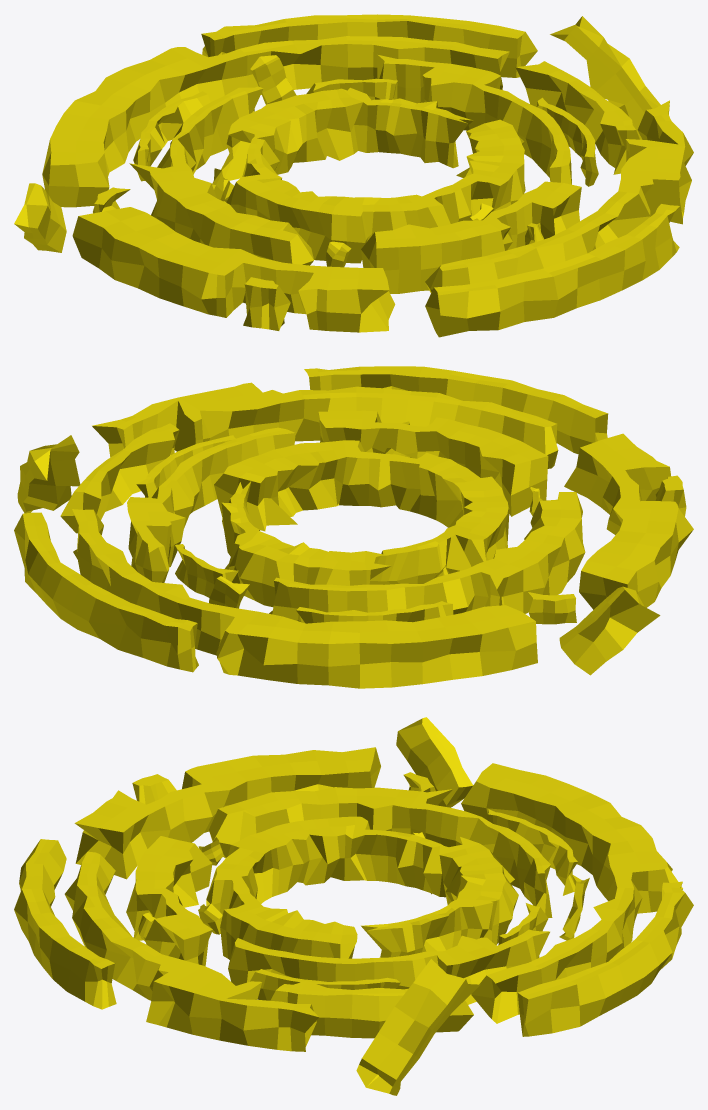
The model's file is laberinto.fbx.
The picture shows the model from 3 angles, top to bottom: view 1: azimuth 30°, elevation 25°; view 2: azimuth 150°, elevation 25°; view 3: azimuth 270°, elevation 25°; orthographic projection. The views are drawn at different scales.
Parts seen in each view (by area): view 1: Cylinder.010, Cylinder.017, Cylinder.027; view 2: Cylinder.010, Cylinder.017, Cylinder.027; view 3: Cylinder.010, Cylinder.017, Cylinder.027.
Part boxes in pixels (x1,y1,x2,y2): Cylinder.010: (14, 14, 693, 337); Cylinder.017: (129, 54, 598, 293); Cylinder.027: (212, 87, 525, 263); Cylinder.010: (14, 366, 693, 688); Cylinder.017: (127, 410, 585, 623); Cylinder.027: (214, 440, 509, 606); Cylinder.010: (14, 717, 693, 1095); Cylinder.017: (126, 787, 589, 1004); Cylinder.027: (198, 816, 518, 959).
Size of the model in its own units: 5526 by 890 by 5105.
